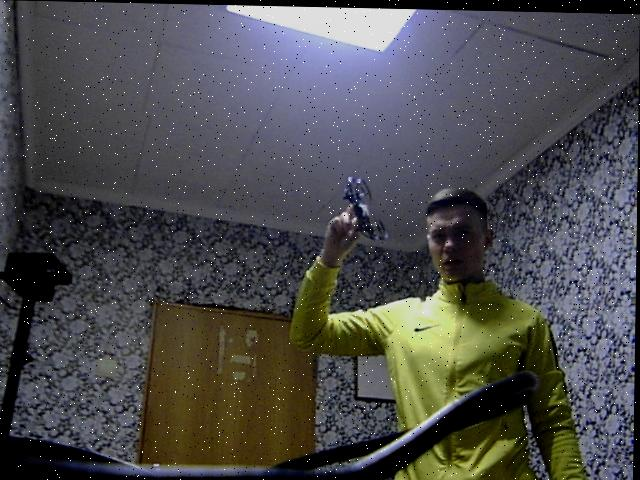drone: (331, 157, 402, 248)
